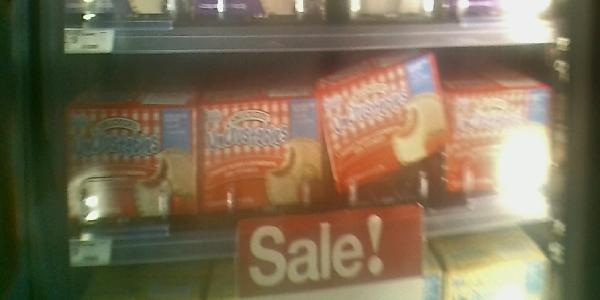icecream: (318, 50, 450, 196), (195, 96, 330, 220), (63, 101, 197, 220), (443, 67, 551, 203)
